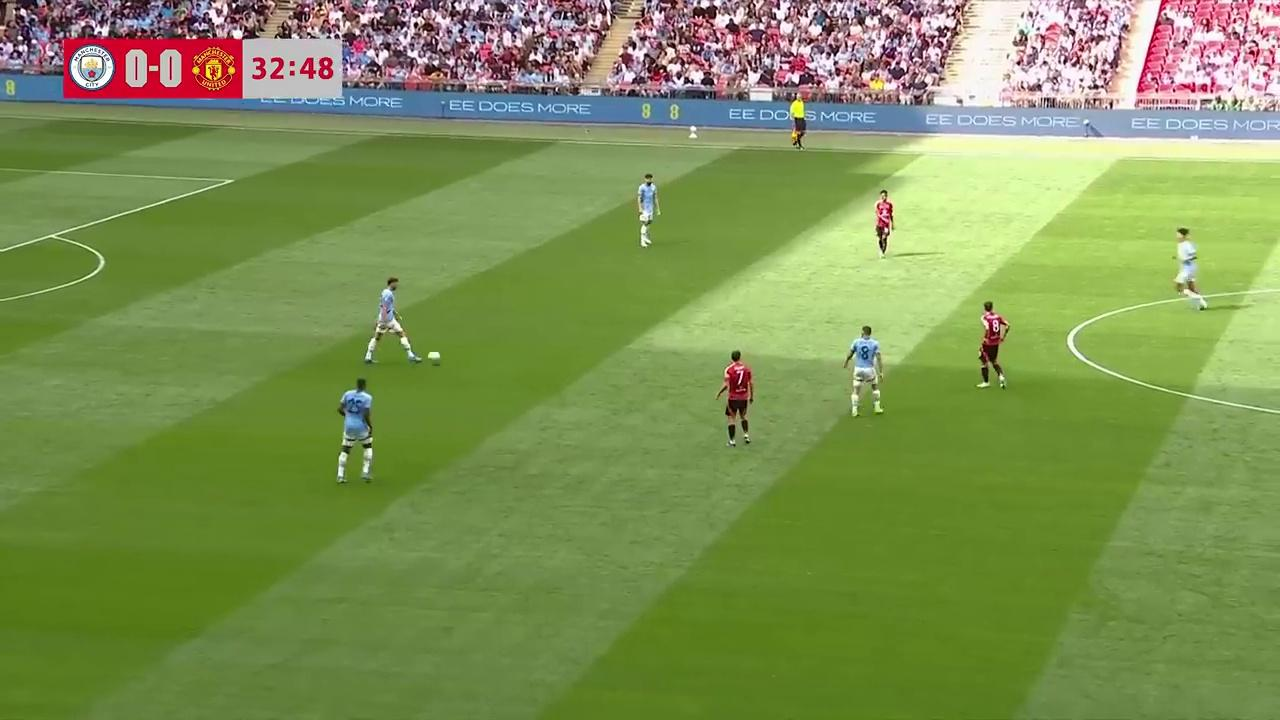ball: (426, 347, 443, 364)
player: (363, 276, 421, 365), (335, 376, 374, 484), (843, 325, 884, 417), (716, 349, 753, 447), (977, 300, 1010, 390), (1173, 232, 1207, 311), (636, 173, 659, 248), (874, 190, 893, 257)
referee: (789, 99, 807, 150)
